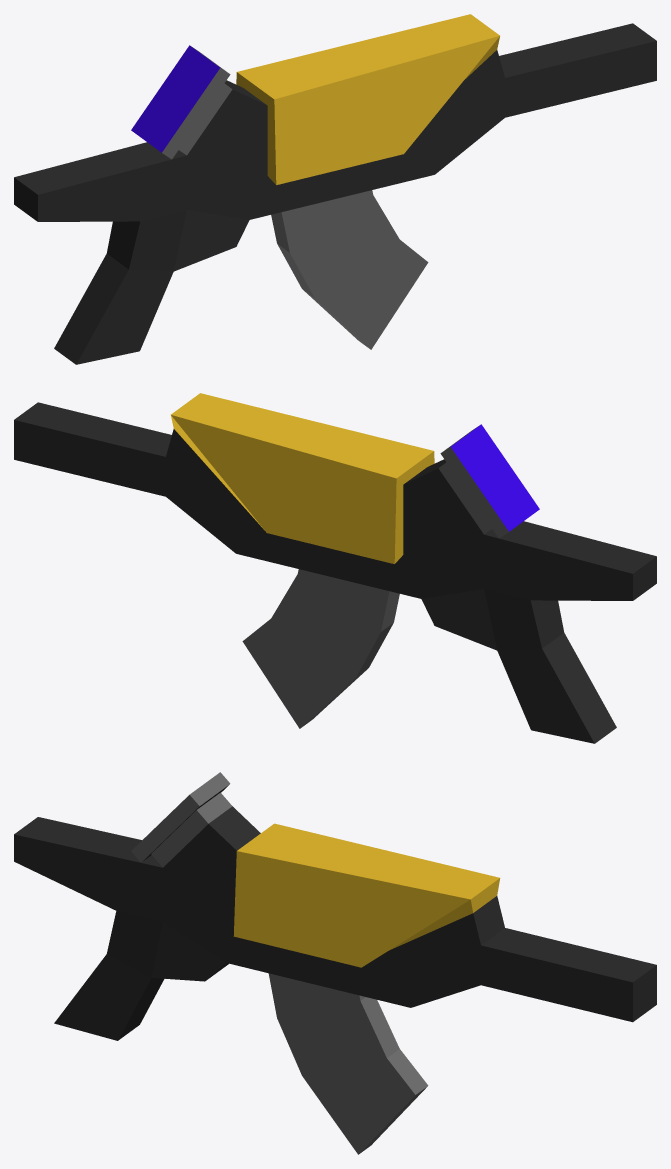
File: final_machinegun_0.fbx
The picture shows the model from 3 angles, top to bottom: view 1: azimuth 30°, elevation 25°; view 2: azimuth 150°, elevation 25°; view 3: azimuth 330°, elevation 25°; orthographic projection.
Visible parts, largest first — view 1: Cube; view 2: Cube; view 3: Cube.
Boxes of the visible parts, x1,y1,x2,y2 form: Cube: (14, 14, 656, 364); Cube: (14, 393, 656, 743); Cube: (14, 772, 656, 1154).
Bounding box in the file's own units: 2279 × 1153 × 271.
